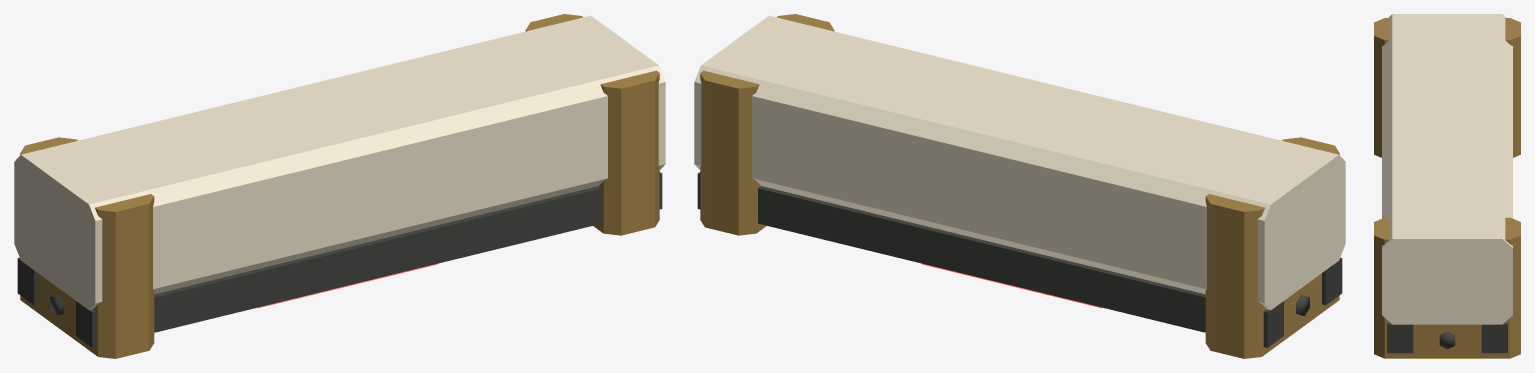
Rendered from b2_beam_red.glb.
3 renders of one model, left to right at view 1: azimuth 30°, elevation 25°; view 2: azimuth 150°, elevation 25°; view 3: azimuth 270°, elevation 25°, orthographic. The views are drawn at different scales.
Visible parts, largest first — view 1: b2_beam_red; view 2: b2_beam_red; view 3: b2_beam_red.
Part boxes in pixels (x1,y1,x2,y2): b2_beam_red: [14, 14, 665, 358]; b2_beam_red: [694, 14, 1345, 358]; b2_beam_red: [1374, 14, 1520, 358].
Size of the model in its own units: 2.03 by 0.58 by 0.56.
